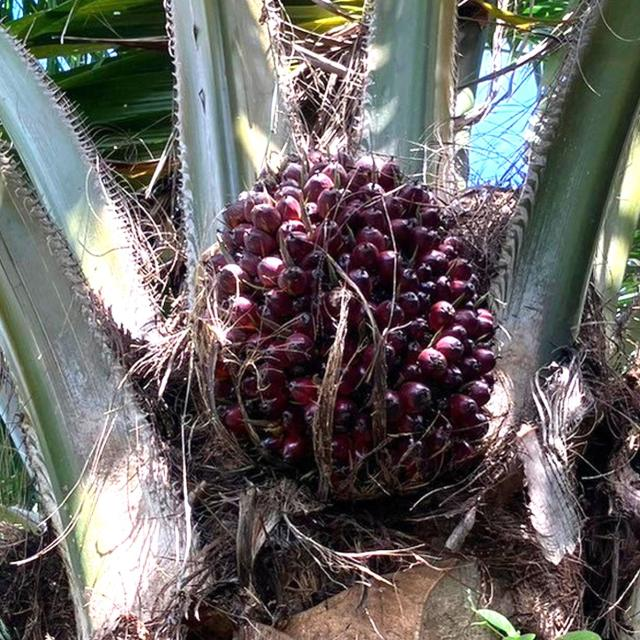ripe: (165, 144, 480, 493)
